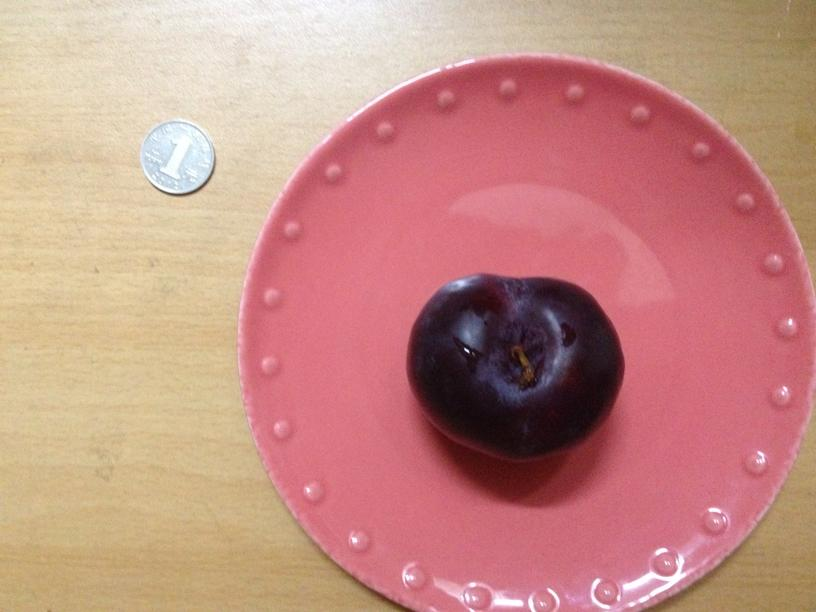coin: (133, 120, 216, 194)
plum: (395, 271, 630, 456)
